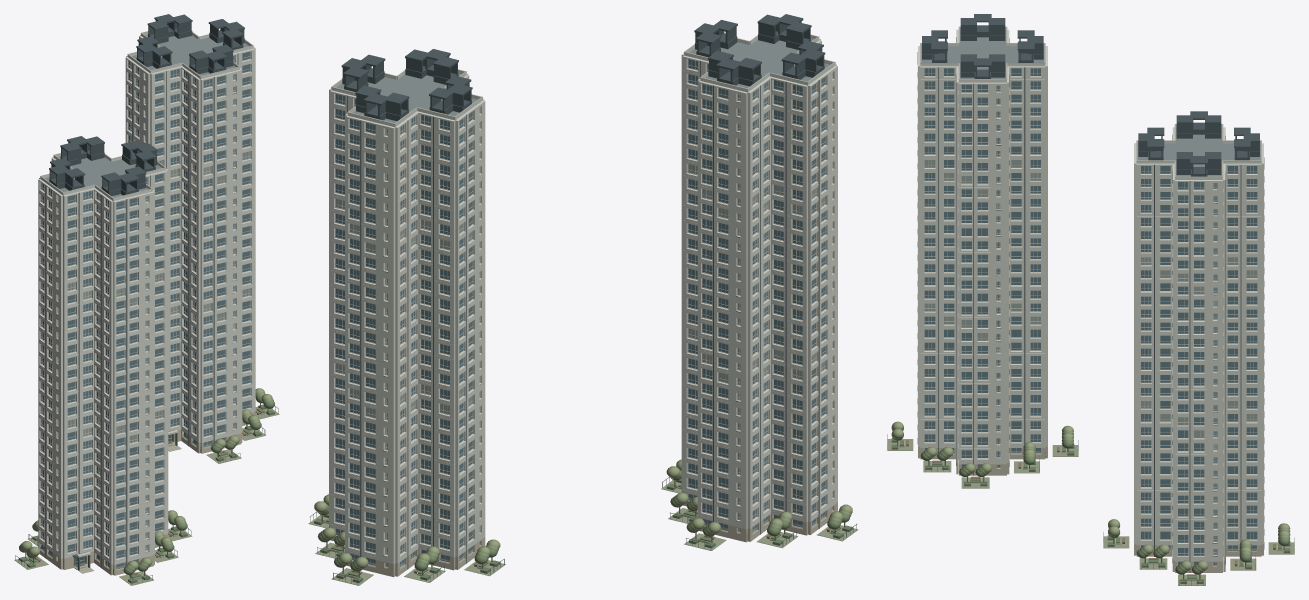
The picture shows the model from 3 angles, left to right: view 1: azimuth 30°, elevation 25°; view 2: azimuth 150°, elevation 25°; view 3: azimuth 270°, elevation 25°; orthographic projection. The views are drawn at different scales.
Visible parts, largest first — view 1: korean-facade-parts-d9dcd3, korean-facade-surface-69858d, korean-facade-parts-e0dfd3, korean-facade-parts-505f63, new-3, korean-facade-surface-9eaaa4, korean-facade-parts-c5c0ae, korean-facade-parts-9ba48a, korean-facade-parts-94a17c, korean-facade-parts-778b69, korean-facade-parts-b8bcb2, korean-facade-parts-718669 (+1 smaller); view 2: korean-facade-parts-d9dcd3, korean-facade-surface-69858d, korean-facade-parts-e0dfd3, korean-facade-parts-505f63, new-3, korean-facade-surface-9eaaa4, korean-facade-parts-c5c0ae, korean-facade-parts-9ba48a, korean-facade-parts-94a17c, korean-facade-parts-778b69, korean-facade-parts-718669, korean-facade-parts-b8bcb2 (+1 smaller); view 3: korean-facade-parts-d9dcd3, korean-facade-surface-69858d, korean-facade-parts-e0dfd3, korean-facade-parts-505f63, new-3, korean-facade-parts-9ba48a, korean-facade-surface-9eaaa4, korean-facade-surface-d9dcd3, korean-facade-parts-94a17c, korean-facade-parts-c5c0ae, korean-facade-parts-b8bcb2, korean-facade-parts-778b69 (+2 smaller).
Boxes of the visible parts, x1,y1,x2,y2 form: korean-facade-parts-d9dcd3: [38, 32, 255, 564]; korean-facade-surface-69858d: [41, 51, 250, 567]; korean-facade-parts-e0dfd3: [40, 51, 250, 558]; korean-facade-parts-505f63: [45, 14, 244, 574]; new-3: [44, 34, 249, 568]; korean-facade-surface-9eaaa4: [41, 151, 250, 450]; korean-facade-parts-c5c0ae: [38, 411, 255, 575]; korean-facade-parts-9ba48a: [14, 406, 279, 585]; korean-facade-parts-94a17c: [21, 388, 272, 569]; korean-facade-parts-778b69: [19, 396, 274, 574]; korean-facade-parts-b8bcb2: [40, 31, 253, 198]; korean-facade-parts-718669: [19, 404, 274, 583]; korean-facade-parts-d9dcd3: [329, 35, 837, 564]; korean-facade-surface-69858d: [335, 59, 825, 564]; korean-facade-parts-e0dfd3: [335, 59, 832, 555]; korean-facade-parts-505f63: [341, 14, 834, 569]; new-3: [336, 38, 830, 533]; korean-facade-surface-9eaaa4: [335, 164, 824, 434]; korean-facade-parts-c5c0ae: [329, 491, 837, 577]; korean-facade-parts-9ba48a: [308, 480, 858, 585]; korean-facade-parts-94a17c: [314, 459, 852, 568]; korean-facade-parts-778b69: [317, 471, 849, 571]; korean-facade-parts-718669: [314, 478, 852, 582]; korean-facade-parts-b8bcb2: [331, 34, 835, 124]; korean-facade-parts-d9dcd3: [917, 27, 1264, 561]; korean-facade-surface-69858d: [924, 68, 1257, 564]; korean-facade-parts-e0dfd3: [924, 68, 1257, 556]; korean-facade-parts-505f63: [917, 14, 1264, 572]; new-3: [921, 30, 1260, 176]; korean-facade-parts-9ba48a: [887, 439, 1294, 585]; korean-facade-surface-9eaaa4: [924, 160, 1257, 449]; korean-facade-surface-d9dcd3: [924, 68, 1257, 565]; korean-facade-parts-94a17c: [891, 421, 1290, 570]; korean-facade-parts-c5c0ae: [918, 447, 1263, 572]; korean-facade-parts-b8bcb2: [920, 26, 1261, 177]; korean-facade-parts-778b69: [891, 428, 1290, 574].
Bounding box in the file's own units: 87.8 × 93.79 × 84.8.
